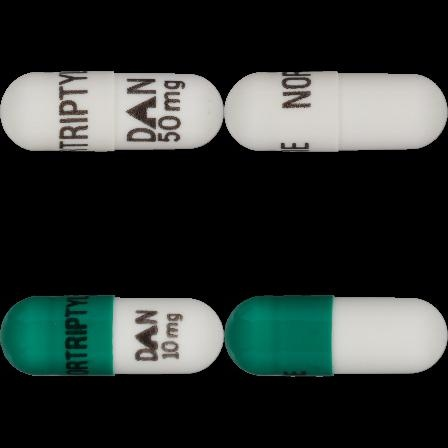50436-6651: (0, 0, 224, 224)
